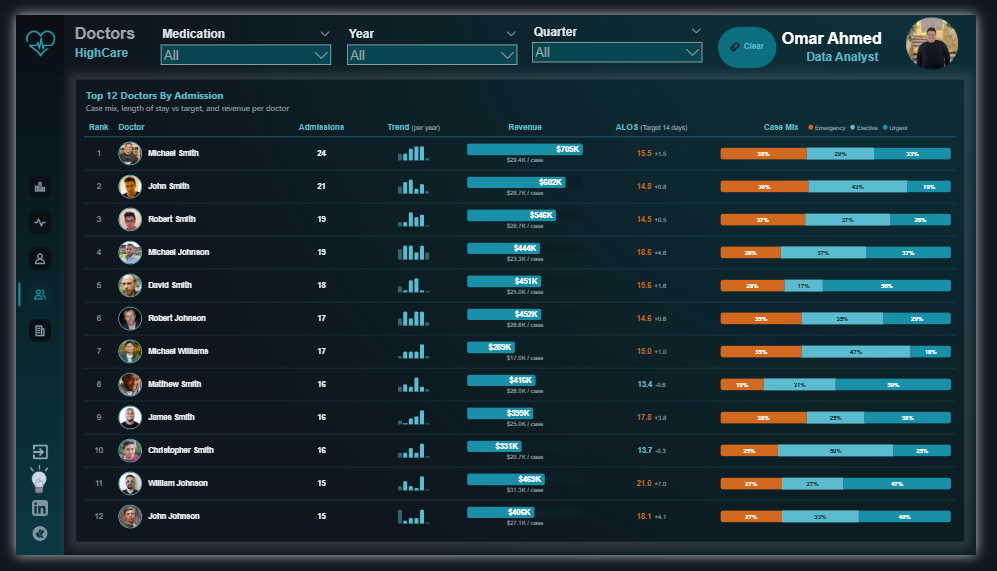

The page's visual inventory and layout, read from the dashboard file:
{"tool":"powerbi","page":{"name":"Doctors","canvas":[1920,1080],"ordinal":4},"visuals":[{"type":"textbox","title":"Page title","box":[118,20,152,41],"z":0},{"type":"textbox","title":"Subtitle","box":[118,58,167,41],"z":1000},{"type":"actionButton","title":"Go to Overview","box":[18,313,60,60],"z":2000},{"type":"actionButton","title":"Go to Hospitals","box":[18,385,60,60],"z":3000},{"type":"actionButton","title":"Go to Patients","box":[18,457,60,60],"z":4000},{"type":"actionButton","title":"Go to Doctors","box":[18,529,60,60],"z":5000},{"type":"actionButton","title":"Go to Insurance Companies","box":[18,601,60,60],"z":6000},{"type":"actionButton","title":"LinkedIn","box":[32,970,32,32],"z":7000},{"type":"actionButton","title":"Website","box":[32,1021,32,32],"z":8000},{"type":"image","title":"Logo","box":[14,26,68,64],"z":9000},{"type":"group","id":"g1","title":"Group 1","box":[1526,6,394,104],"z":10000},{"type":"htmlContent443BE3AD55E043BF878BED274D3A6855","fields":{"content":["Dax_Measures.Html_Doctors_Table"]},"box":[120,130,1776,924],"z":11000},{"type":"actionButton","box":[1400,20,125,90],"z":16001},{"type":"slicer","fields":{"Values":["Dim_Medications.Medication"]},"box":[285,25,350,87.5],"z":16002},{"type":"slicer","fields":{"Values":["Dim_Date.Year"]},"box":[656.7,25,350,90],"z":16003},{"type":"slicer","fields":{"Values":["Dim_Date.Quarter"]},"box":[1028.3,20,350,90],"z":16004},{"type":"image","box":[10,837.5,77.5,72.5],"z":16005},{"type":"image","box":[18.1,892.2,59.7,72.4],"z":16006},{"type":"image","box":[1746,6,174,104],"z":20000,"group":"g1"},{"type":"textbox","box":[1526,30,206.5,78.1],"z":21000,"group":"g1"}]}

Visuals, with their boxes in screenshot pixels (x1, y1, x2, y2), scaled from the page's 1920x1080 canvas onto the 997x571 screenshot:
"Page title" textbox: x1=61 y1=11 x2=140 y2=32
"Subtitle" textbox: x1=61 y1=31 x2=148 y2=52
"Go to Overview" actionButton: x1=9 y1=165 x2=41 y2=197
"Go to Hospitals" actionButton: x1=9 y1=204 x2=41 y2=235
"Go to Patients" actionButton: x1=9 y1=242 x2=41 y2=273
"Go to Doctors" actionButton: x1=9 y1=280 x2=41 y2=311
"Go to Insurance Companies" actionButton: x1=9 y1=318 x2=41 y2=349
"LinkedIn" actionButton: x1=17 y1=513 x2=33 y2=530
"Website" actionButton: x1=17 y1=540 x2=33 y2=557
"Logo" image: x1=7 y1=14 x2=43 y2=48
"Group 1" group: x1=792 y1=3 x2=996 y2=58
htmlContent443BE3AD55E043BF878BED274D3A6855 - Dax_Measures.Html_Doctors_Table: x1=62 y1=69 x2=985 y2=557
actionButton: x1=727 y1=11 x2=792 y2=58
slicer - Dim_Medications.Medication: x1=148 y1=13 x2=330 y2=59
slicer - Dim_Date.Year: x1=341 y1=13 x2=523 y2=61
slicer - Dim_Date.Quarter: x1=534 y1=11 x2=716 y2=58
image: x1=5 y1=443 x2=45 y2=481
image: x1=9 y1=472 x2=40 y2=510
image: x1=907 y1=3 x2=996 y2=58
textbox: x1=792 y1=16 x2=900 y2=57
